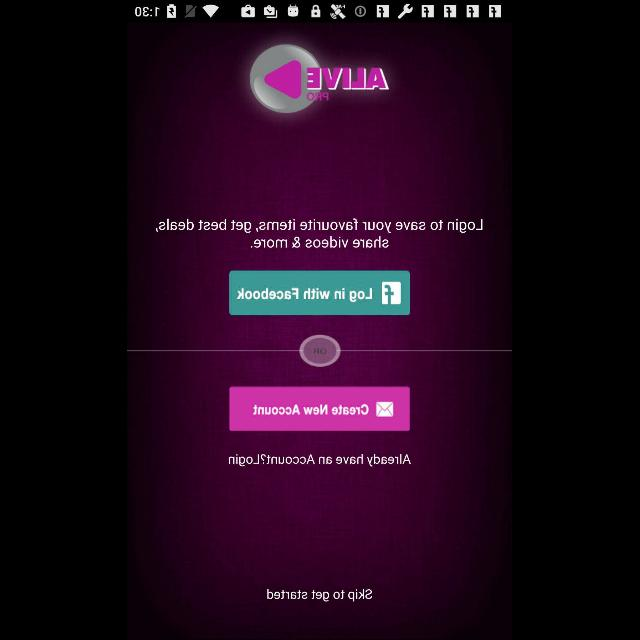image: (250, 44, 390, 114)
text: (156, 218, 484, 248), (229, 454, 411, 466), (268, 588, 374, 602)
textbutton: (230, 386, 410, 432), (230, 270, 410, 316)
uppertaskbar: (128, 1, 512, 23)
